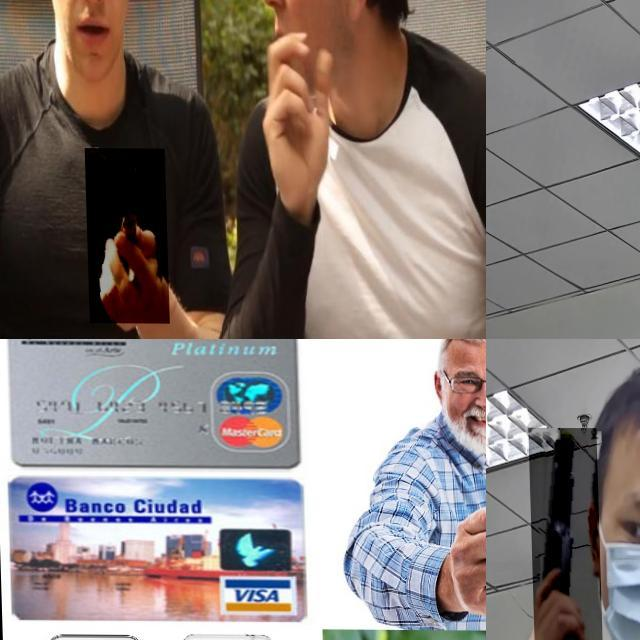-: (82, 148, 166, 323)
gun-knife-thesis - v11 Yolov5 augmented: (528, 427, 603, 640)
